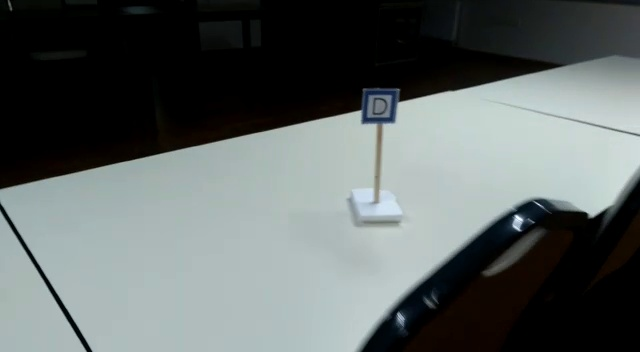durak: (361, 87, 397, 123)
